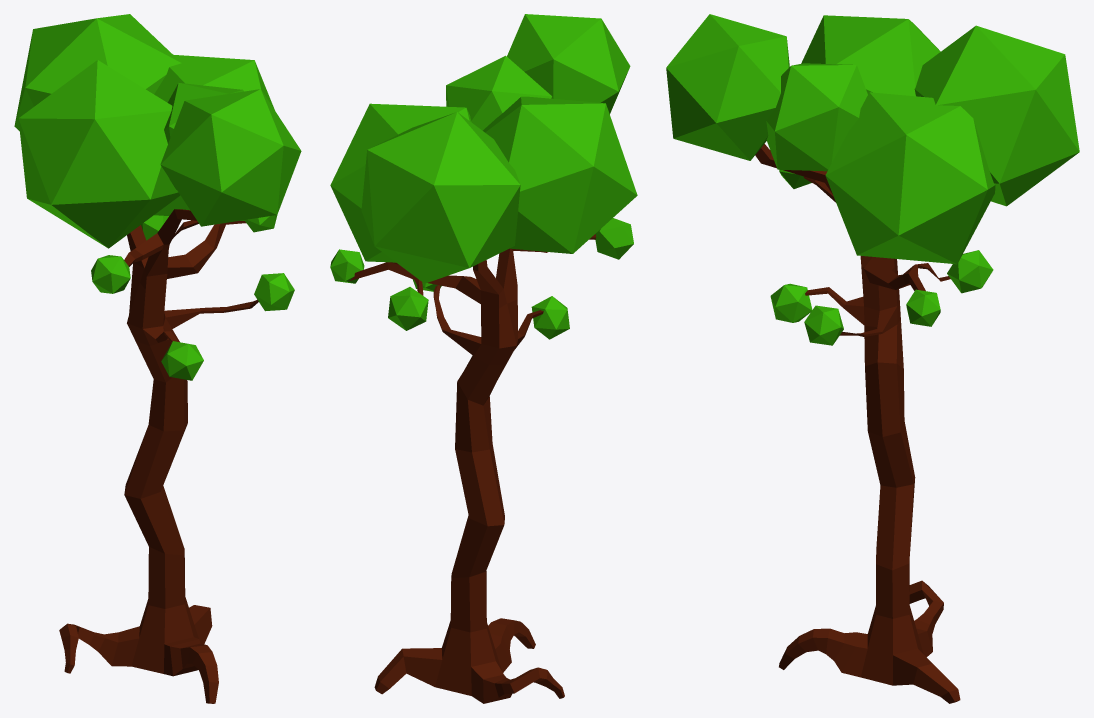
File: Mittsexigatrad (1).fbx
3 renders of one model, left to right at view 1: azimuth 30°, elevation 25°; view 2: azimuth 150°, elevation 25°; view 3: azimuth 270°, elevation 25°, orthographic. The views are drawn at different scales.
Parts seen in each view (by area): view 1: Icosphere.010, Cube; view 2: Icosphere.010, Cube; view 3: Icosphere.010, Cube.
Boxes of the visible parts, x1,y1,x2,y2 form: Icosphere.010: (14, 14, 301, 380); Cube: (59, 209, 258, 703); Icosphere.010: (330, 14, 637, 339); Cube: (349, 234, 596, 703); Icosphere.010: (666, 14, 1079, 345); Cube: (755, 144, 960, 703).
Bounding box in the file's own units: 9.86 × 21.84 × 12.86.
